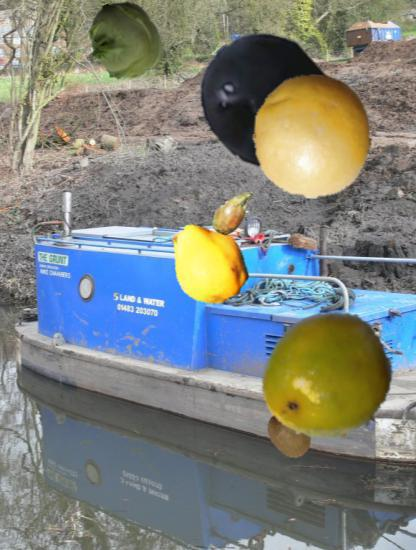Cactus: (207, 185, 261, 239)
Grape: (197, 30, 339, 172)
Grapefruit: (250, 74, 375, 199)
Kiwi: (264, 407, 316, 459)
Kohlrabi: (83, 1, 163, 81)
Maracuja: (264, 309, 399, 444)
Quince: (164, 220, 254, 310)
